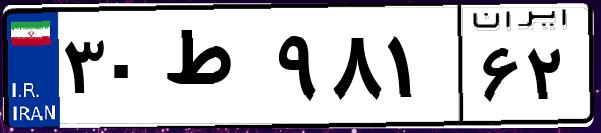0: (110, 28, 158, 98)
1: (385, 28, 445, 110)
2: (525, 38, 570, 115)
3: (57, 26, 110, 100)
6: (475, 38, 525, 113)
8: (330, 28, 385, 110)
9: (270, 28, 330, 110)
ط: (158, 20, 270, 120)
